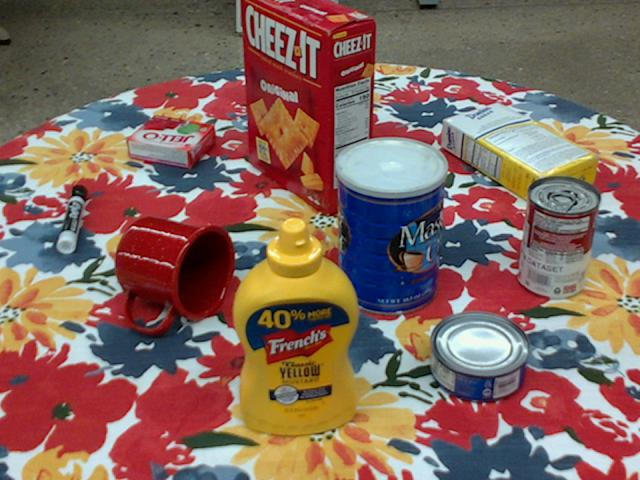cracker_box: (241, 0, 375, 211)
gelatin_box: (125, 115, 215, 168)
large_marker: (55, 184, 85, 252)
master_chef_can: (334, 137, 446, 317)
mug: (113, 216, 234, 333)
mustard_bottle: (232, 218, 358, 435)
potted_meat_can: (277, 44, 354, 118)
sugar_box: (441, 100, 598, 208)
tomato_soup_can: (518, 175, 599, 298)
tuna_fish_can: (427, 312, 527, 403)
